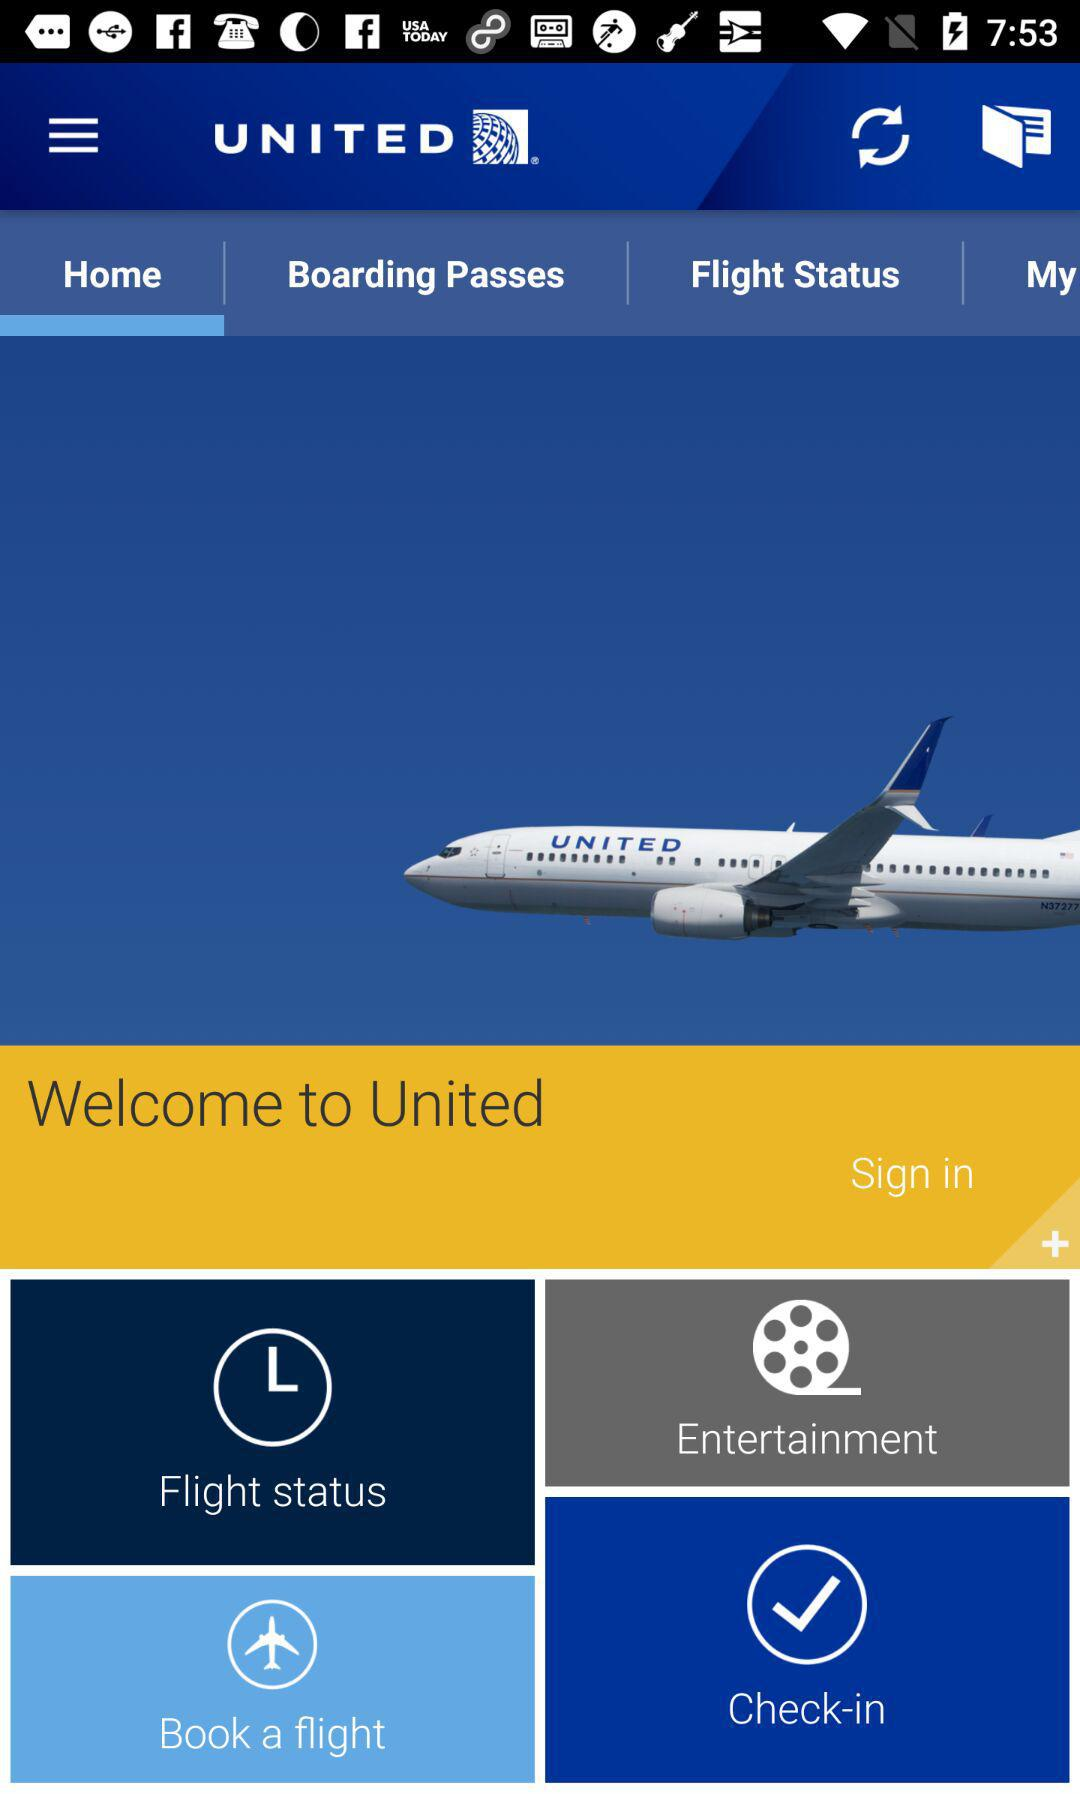Icon: (213, 1328, 334, 1448), (980, 105, 1052, 170), (851, 104, 911, 170), (47, 117, 101, 156), (1042, 1230, 1070, 1258)
Image: (395, 714, 1079, 947), (215, 109, 541, 167), (746, 1543, 869, 1666), (751, 1298, 862, 1395), (227, 1598, 319, 1691)
Multi_Tab: (1, 211, 1080, 338)
Text: (28, 1076, 542, 1129), (290, 259, 566, 299), (161, 1715, 387, 1759), (161, 1472, 387, 1516), (678, 1422, 940, 1457), (692, 258, 899, 297), (729, 1690, 885, 1726), (852, 1157, 975, 1199), (65, 261, 163, 290), (1026, 260, 1080, 297)
Toolbar: (3, 67, 1080, 209)
UpperTaskBar: (1, 1, 1080, 64)
